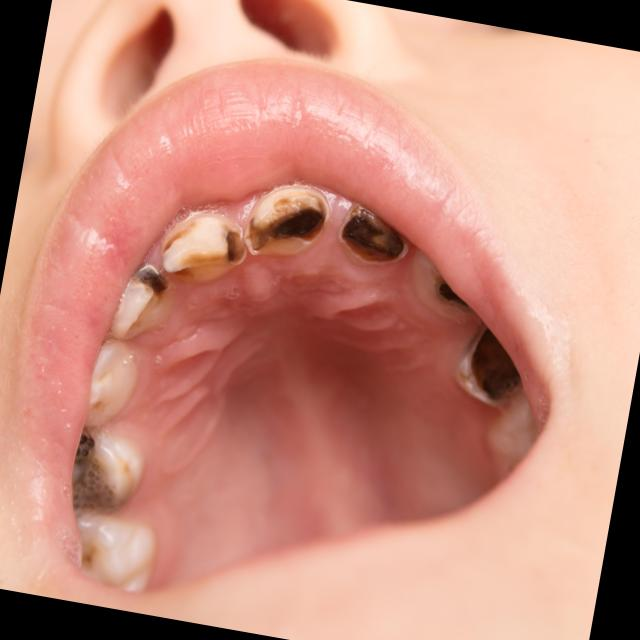Caries: (337, 203, 409, 265), (470, 328, 522, 399), (273, 209, 322, 236), (133, 270, 164, 292), (439, 284, 468, 306), (228, 251, 233, 261)
Cavity: (244, 188, 329, 257), (72, 434, 115, 511), (129, 264, 169, 307), (162, 222, 195, 254), (220, 224, 246, 264)
Tooth: (450, 324, 531, 427), (242, 186, 330, 257), (75, 514, 154, 592), (71, 432, 145, 513), (161, 213, 246, 281), (83, 338, 138, 428), (412, 250, 477, 324), (111, 264, 174, 339)
